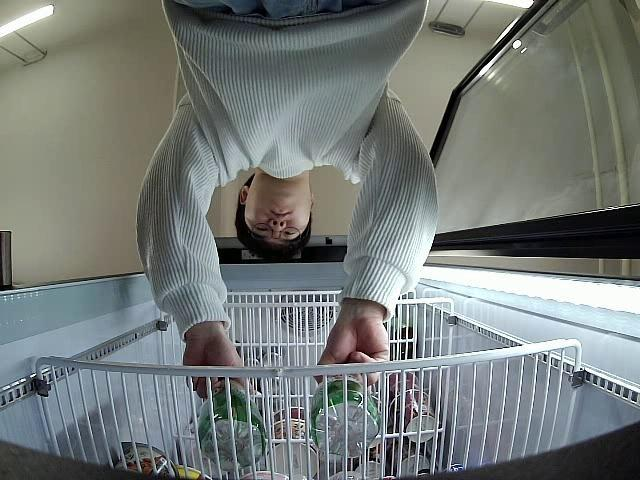18_trevi: (197, 378, 267, 472), (312, 374, 382, 457)
